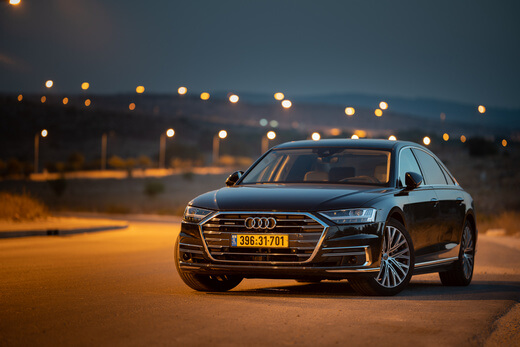licence: (230, 232, 289, 248)
